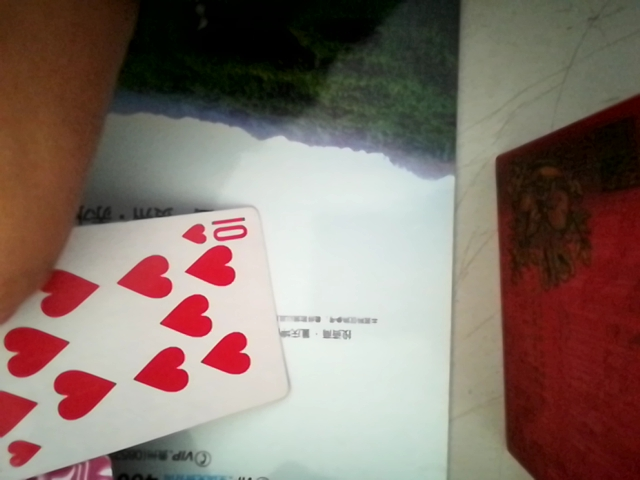hx 10: (0, 198, 282, 480)
